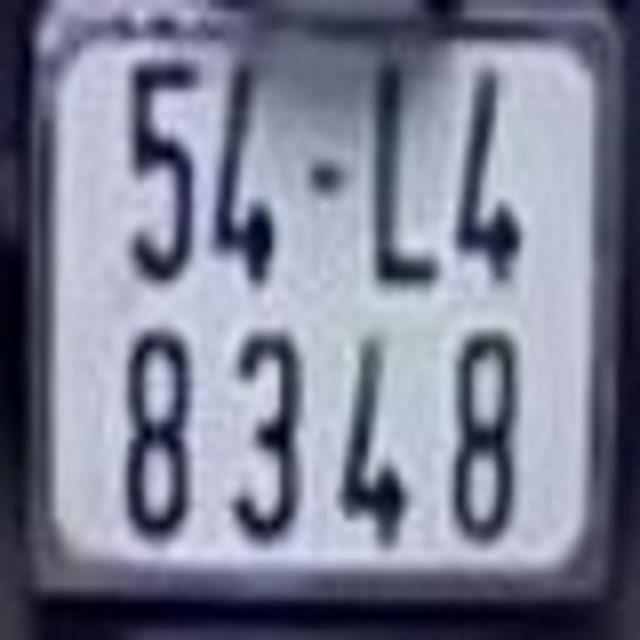3: (235, 327, 303, 539)
4: (337, 334, 407, 544), (213, 65, 277, 282), (463, 71, 521, 275)
5: (129, 60, 195, 276)
8: (456, 331, 516, 544), (127, 336, 189, 538)
L: (373, 63, 440, 283)
